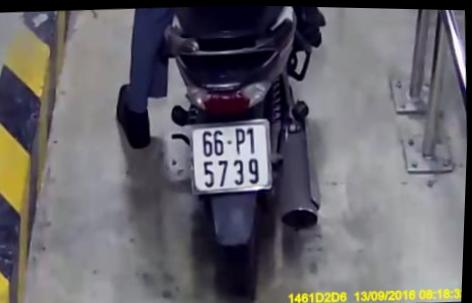LP: (186, 114, 277, 197)
